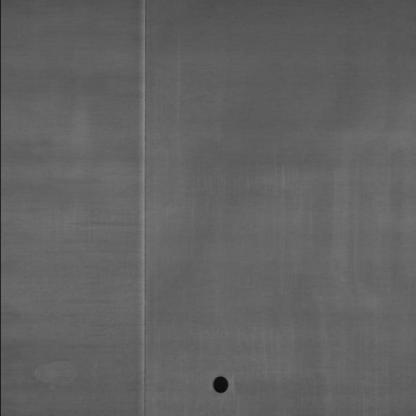punching_hole: (205, 374, 234, 395)
welding_line: (131, 1, 163, 414)
